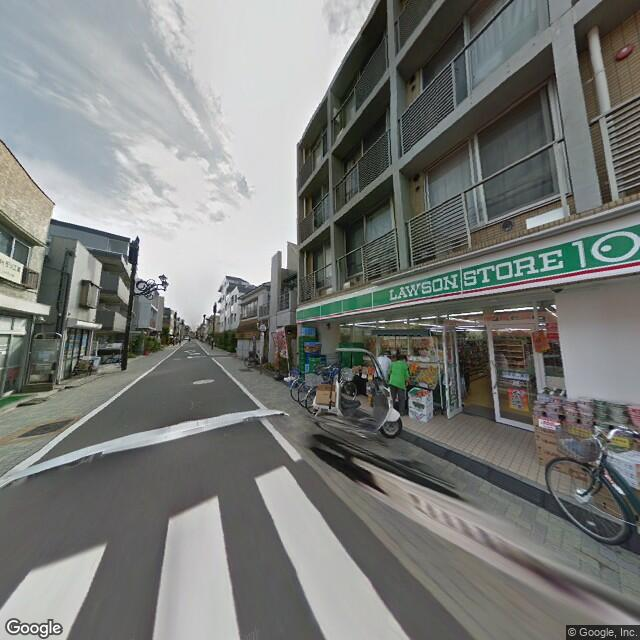lawson: (294, 211, 639, 329)
